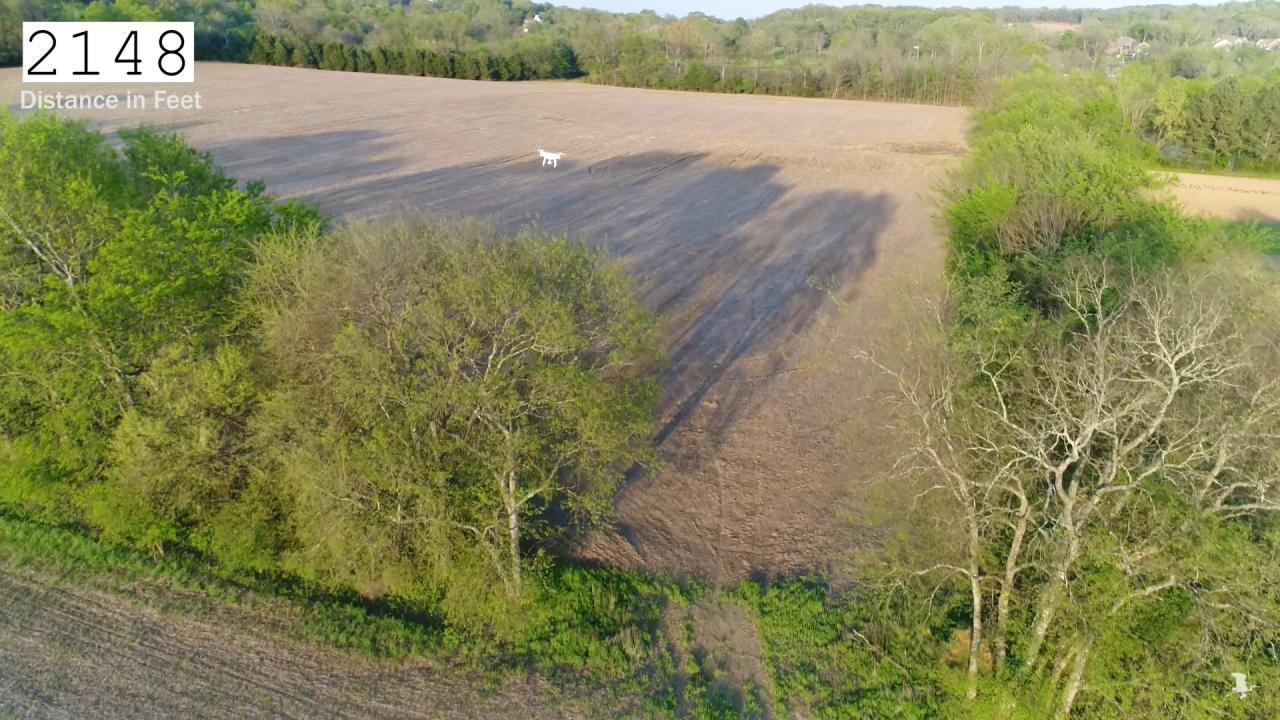Drone: (528, 142, 572, 176)
